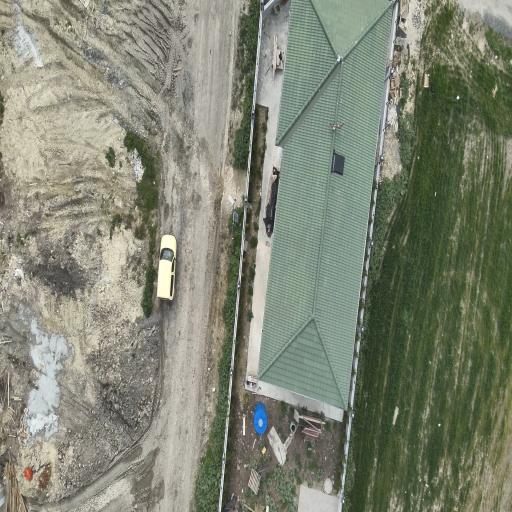car: (157, 235, 175, 300)
